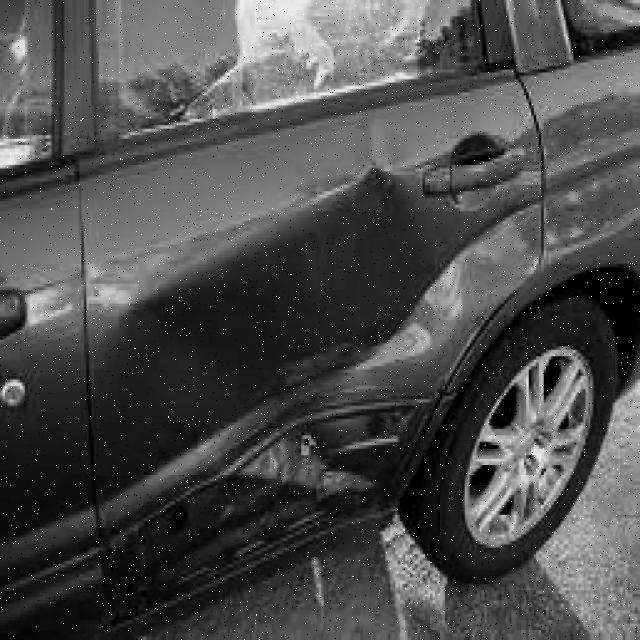car damage: (117, 168, 538, 606)
